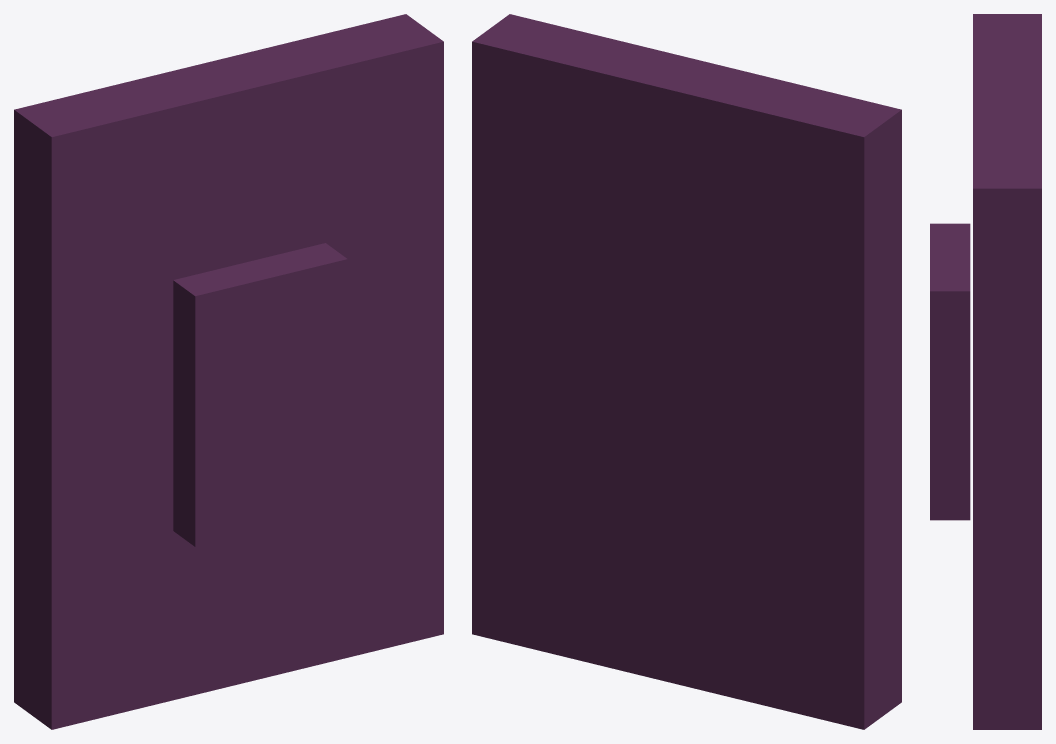
The model's file is electrical-outlet.obj.
The picture shows the model from 3 angles, left to right: view 1: azimuth 30°, elevation 25°; view 2: azimuth 150°, elevation 25°; view 3: azimuth 270°, elevation 25°; orthographic projection. The views are drawn at different scales.
Visible parts, largest first — view 1: wall-plate, toggle-or-socket; view 2: wall-plate; view 3: wall-plate, toggle-or-socket.
Boxes of the visible parts, x1,y1,x2,y2 form: wall-plate: [14, 14, 443, 729]; toggle-or-socket: [173, 243, 347, 546]; wall-plate: [472, 14, 901, 729]; wall-plate: [973, 14, 1041, 729]; toggle-or-socket: [930, 223, 970, 520].
Bounding box in the file's own units: 0.36 × 0.52 × 0.0975.
